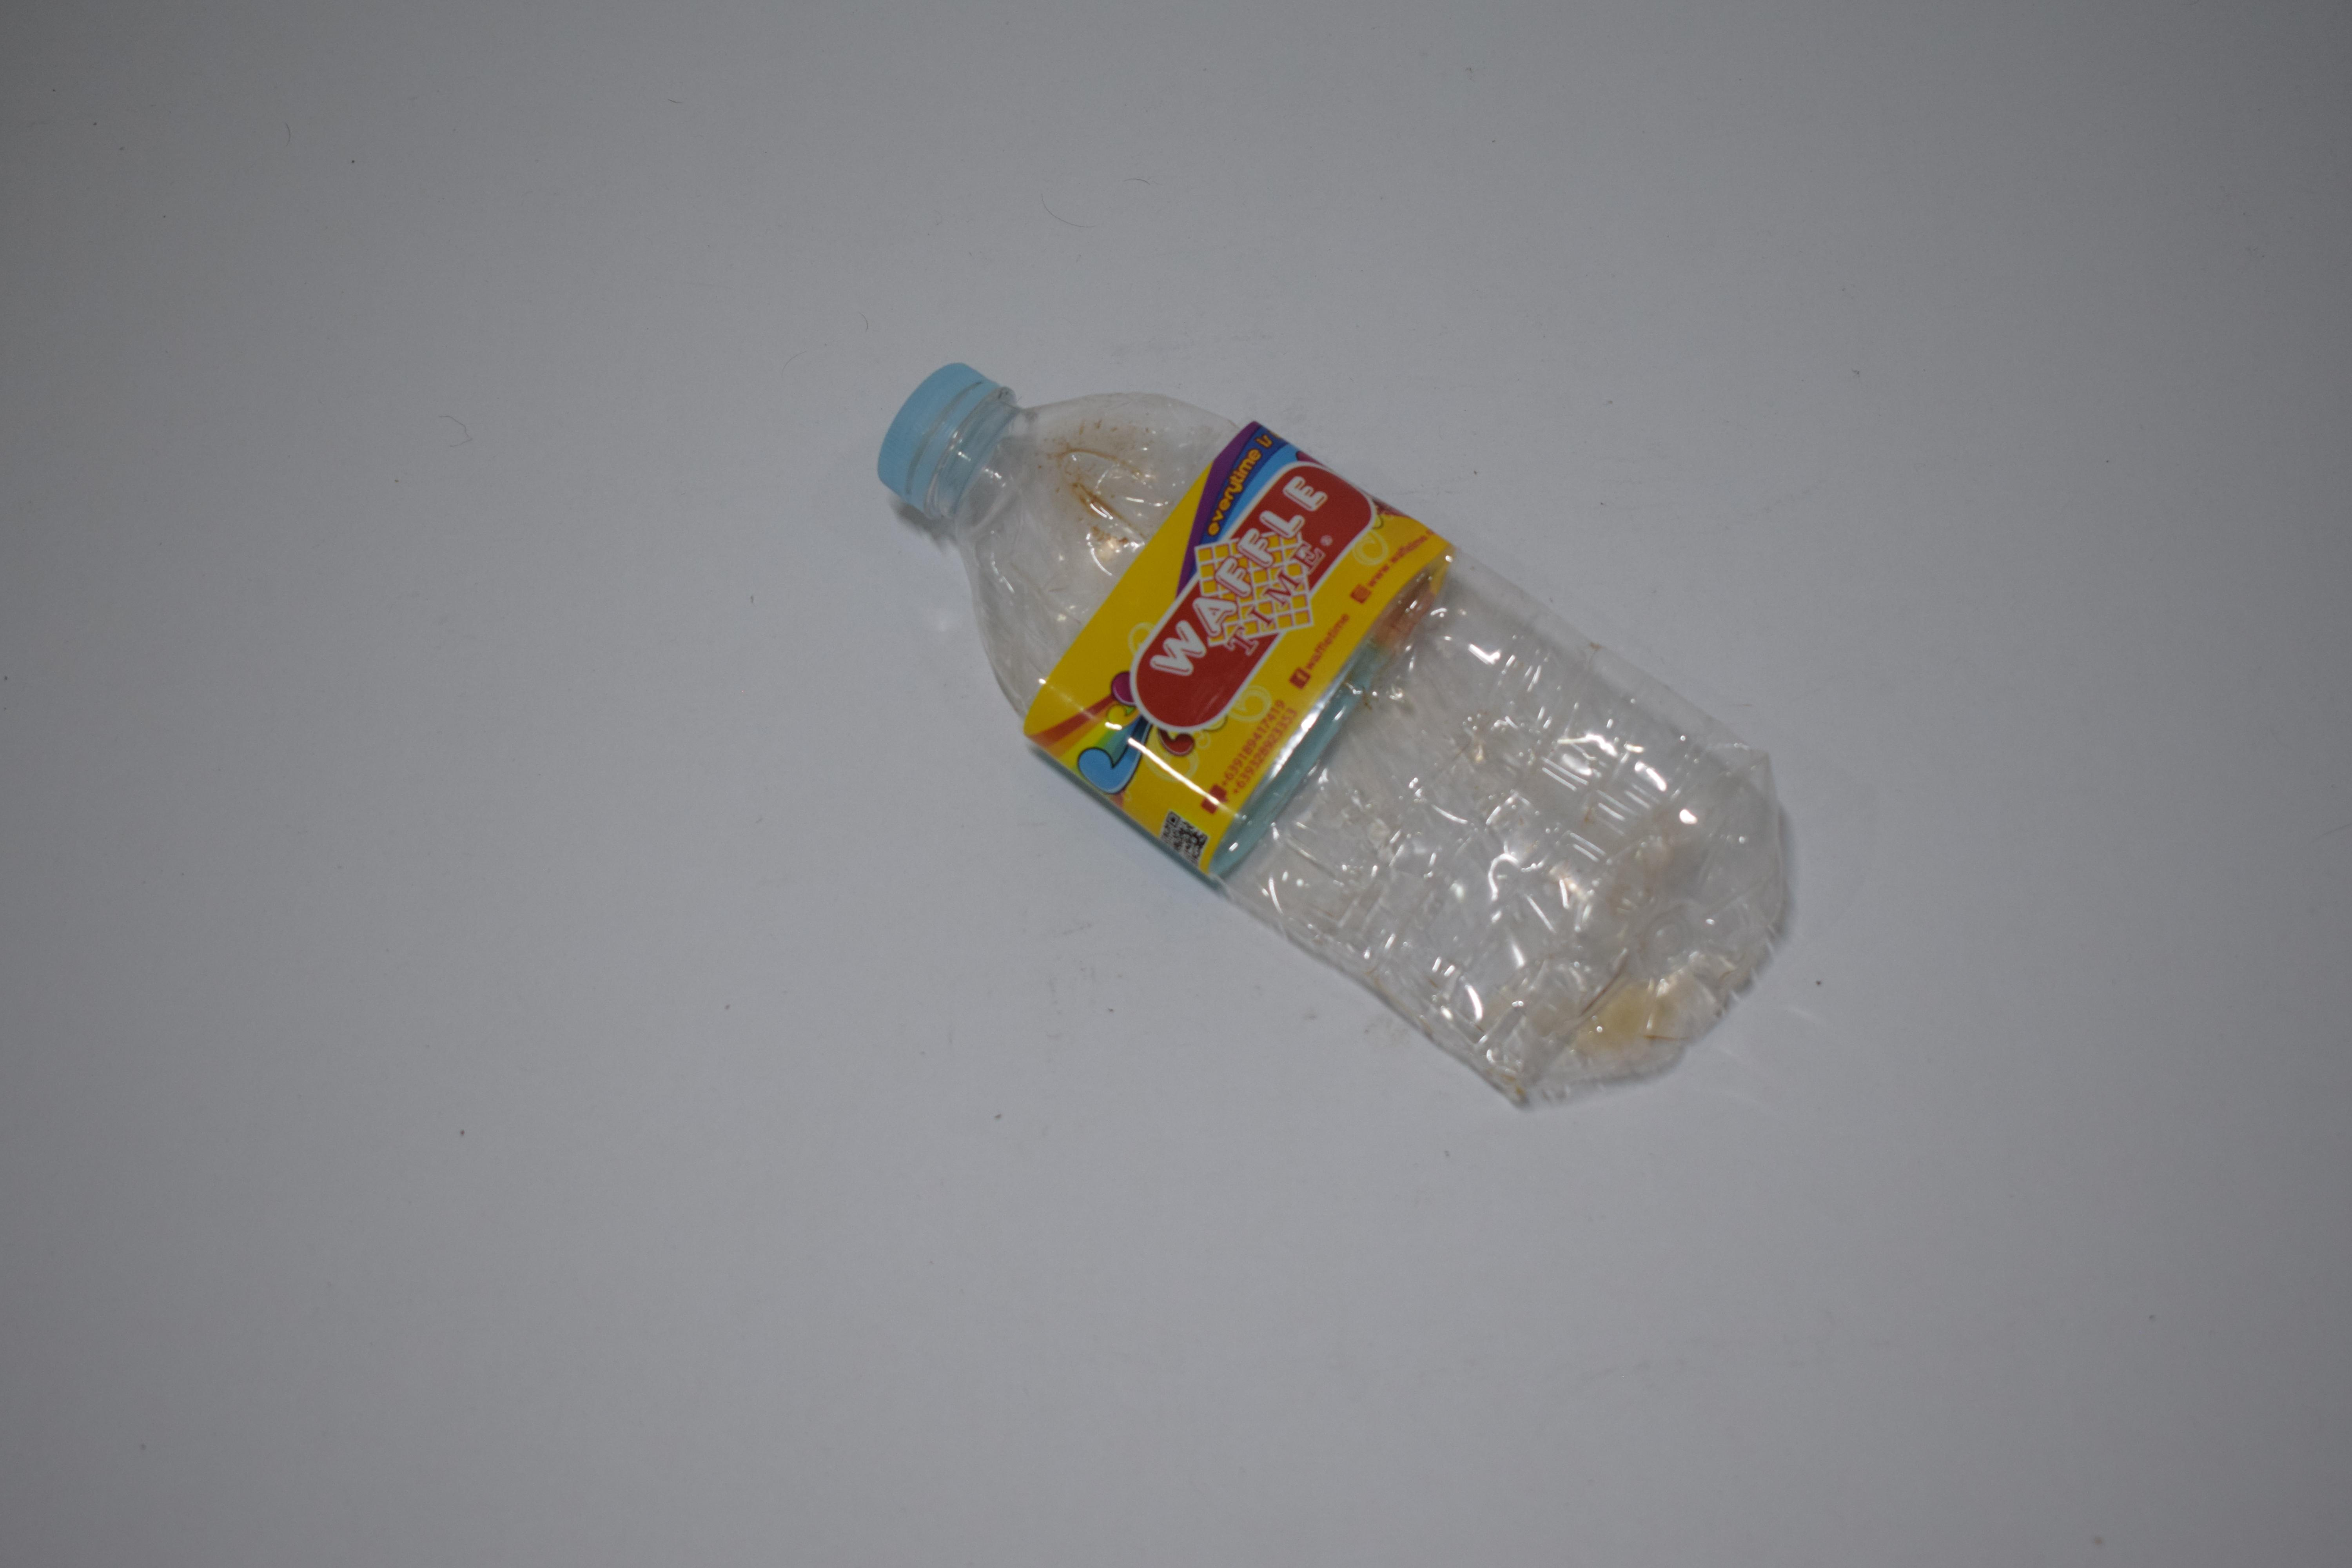bottle: (0, 350, 623, 1104)
